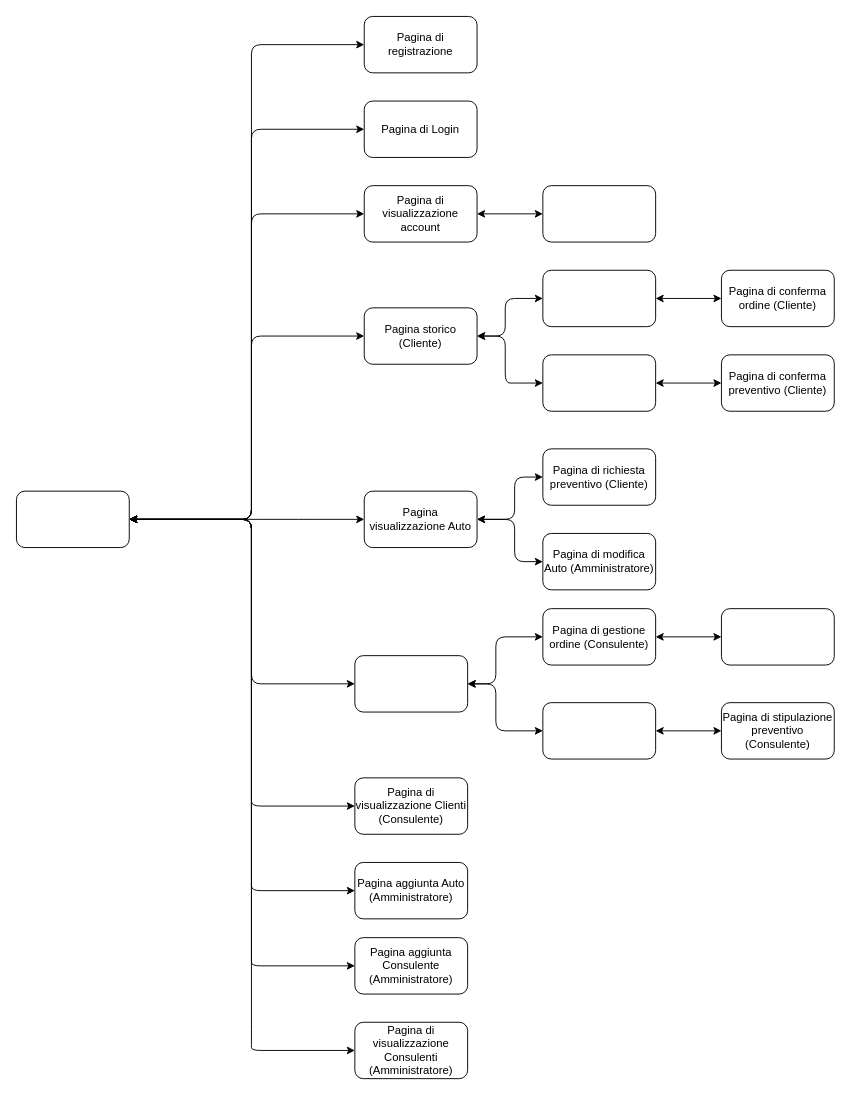
The diagram is 851 pixels wide and 1095 high, and some of its shapes have lost their labels. Each missing label, with the centre of its shape:
HomePage: (72,519)
Pagina di approvazione ordine (Consulente): (777,636)
Pagina di gestione ordine (Cliente): (599,298)
Pagina di gestione preventivo (Cliente): (599,382)
Pagina di gestione preventivo (Consulente): (599,730)
Pagina di modifica account: (599,213)
Pagina storico (Consulente): (411,683)
